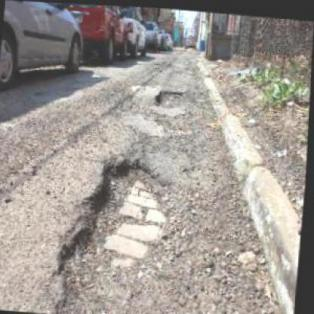Hueco: (51, 152, 187, 313), (154, 84, 189, 108)
